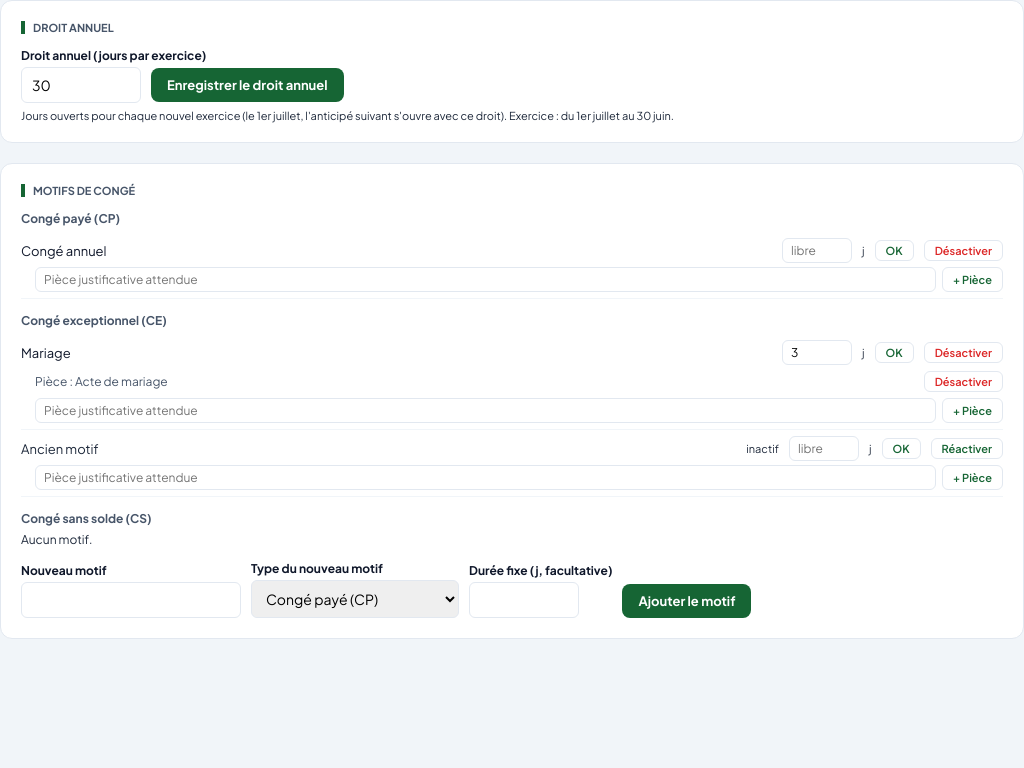
Test: CongeParametresPanel — droit annuel › affiche l'erreur renvoyée par le serveur
The width and height of the screenshot is (1024, 768).
Replace the text in the number field labelled "Droit annuel (jours par exercice)" with "35" at {"x": 81, "y": 85}, box top-left (21, 67), bottom-right (141, 103)
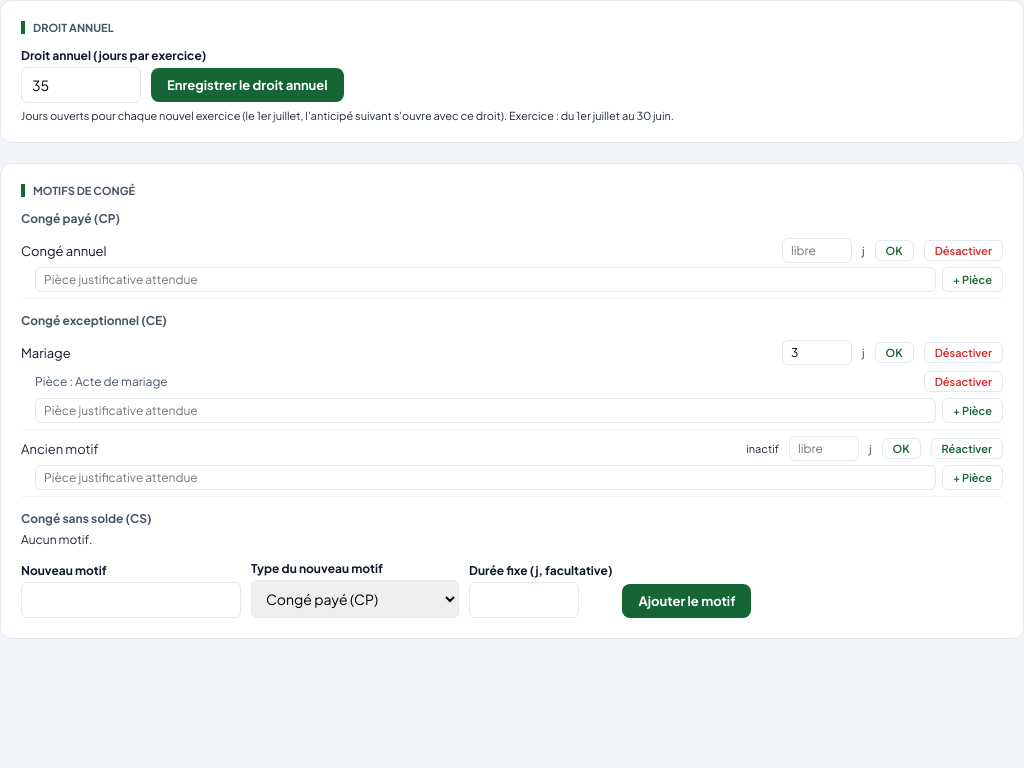
Click the button "Enregistrer le droit annuel" at {"x": 247, "y": 85}, box top-left (151, 68), bottom-right (344, 102)
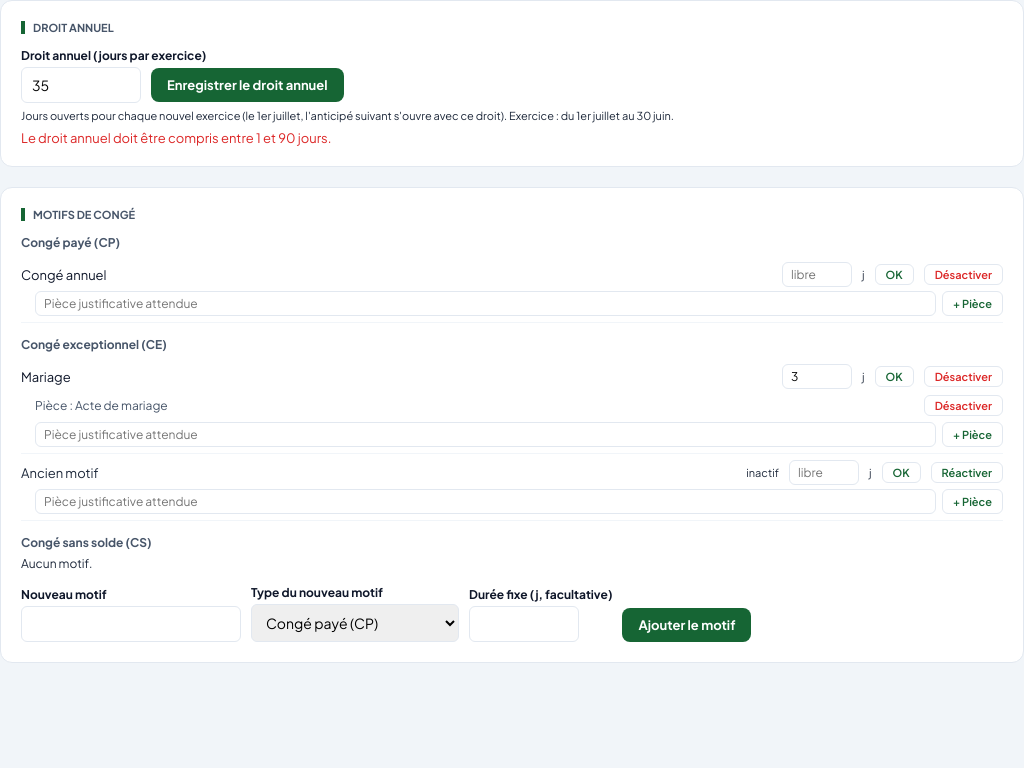
Check: the text "Le droit annuel doit être compris entre 1 et 90 jours." is shown, box top-left (21, 130), bottom-right (332, 146)
